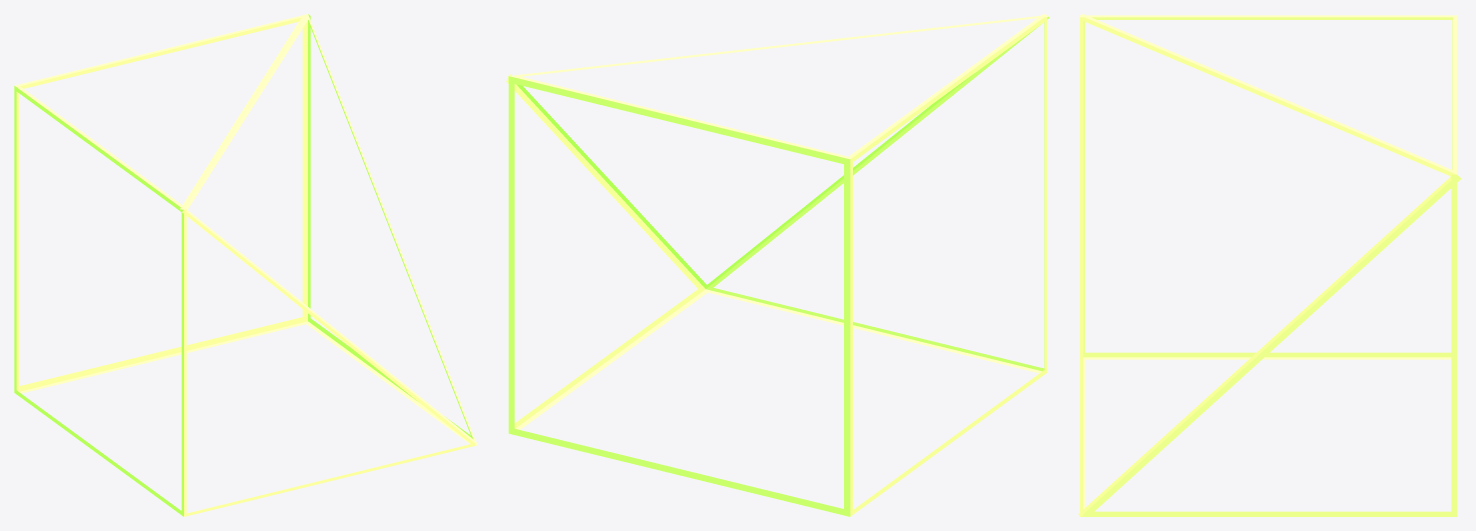
The model's file is r6c2_highlight_green.glb.
The picture shows the model from 3 angles, left to right: view 1: azimuth 30°, elevation 25°; view 2: azimuth 150°, elevation 25°; view 3: azimuth 270°, elevation 25°; orthographic projection. The views are drawn at different scales.
Visible parts, largest first — view 1: r6c2_highlight_green; view 2: r6c2_highlight_green; view 3: r6c2_highlight_green.
Boxes of the visible parts, x1,y1,x2,y2 form: r6c2_highlight_green: (14,14,477,516); r6c2_highlight_green: (506,14,1049,516); r6c2_highlight_green: (1078,14,1461,516).
Bounding box in the file's own units: 2.03 × 2 × 2.03.
